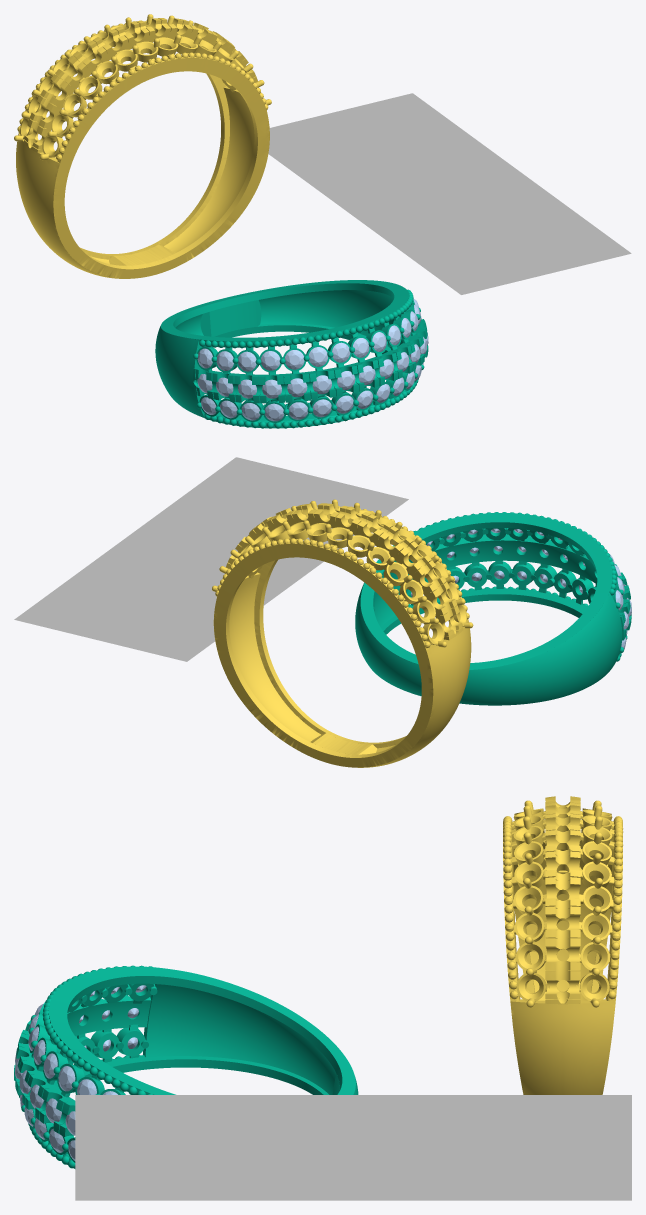
3 views of the same model, one above another, from view 1: azimuth 30°, elevation 25°; view 2: azimuth 150°, elevation 25°; view 3: azimuth 270°, elevation 25° (orthographic). The views are drawn at different scales.
Visible parts, largest first — view 1: rg 3 DM 8(base).3dm; view 2: rg 3 DM 8(base).3dm; view 3: rg 3 DM 8(base).3dm.
Part boxes in pixels (x1,y1,x2,y2): rg 3 DM 8(base).3dm: [14, 14, 631, 428]; rg 3 DM 8(base).3dm: [14, 457, 631, 767]; rg 3 DM 8(base).3dm: [14, 796, 631, 1200].
Bounding box in the file's own units: 4.83 × 2.77 × 4.93.
